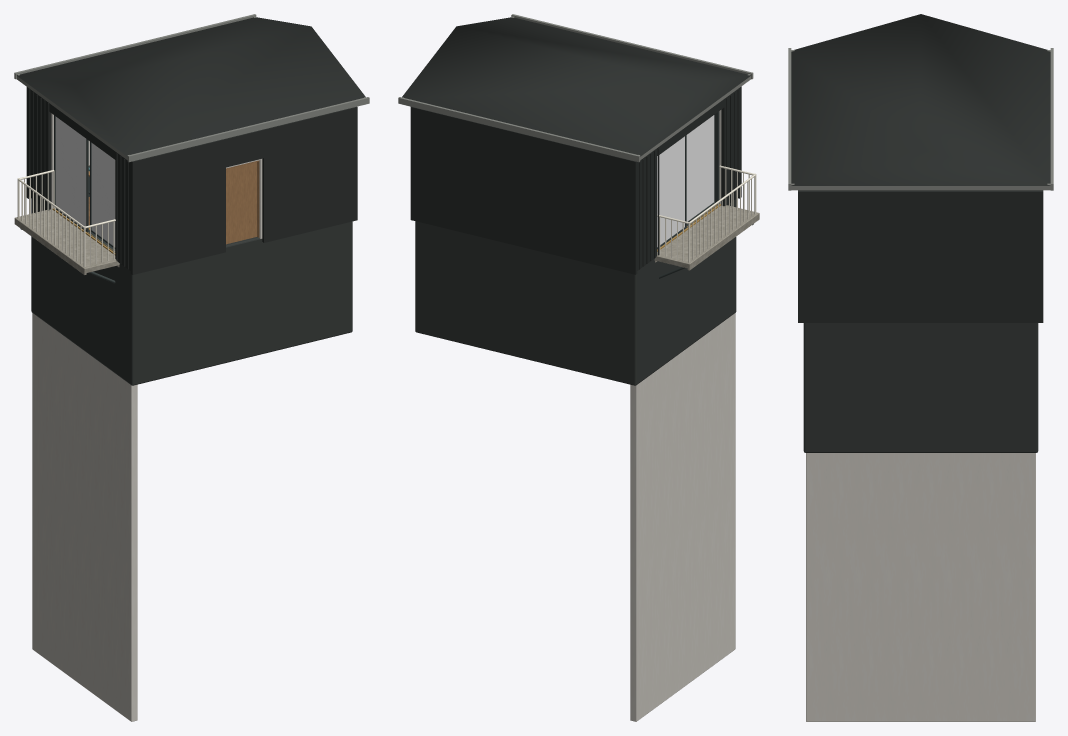
File: room.glb
The picture shows the model from 3 angles, left to right: view 1: azimuth 30°, elevation 25°; view 2: azimuth 150°, elevation 25°; view 3: azimuth 270°, elevation 25°; orthographic projection. The views are drawn at different scales.
Parts seen in each view (by area): view 1: Balcony building facade below floor, EXTERIOR_Terrain_House_Foundation, EXTERIOR_Terrain_House_Pitched_Roof, EXTERIOR_Terrain_House_Front_Cladding.001, EXTERIOR_Terrain_House_Front_Cladding, Balcony fixed clear glass, Entry oak door, Balcony slab, Balcony moving clear glass, EXTERIOR_Terrain_House_Window_Side_Cladding.001, EXTERIOR_Terrain_House_Eave_Fascia, EXTERIOR_Terrain_House_Window_Side_Cladding (+3 smaller); view 2: Balcony building facade below floor, EXTERIOR_Terrain_House_Foundation, EXTERIOR_Terrain_House_Pitched_Roof, EXTERIOR_Terrain_House_Back_Cladding, Balcony moving clear glass, Balcony slab, Balcony fixed clear glass, EXTERIOR_Terrain_House_Eave_Fascia.001, EXTERIOR_Terrain_House_Window_Side_Cladding.001, EXTERIOR_Terrain_House_Window_Side_Cladding, EXTERIOR_Terrain_House_Eave_Fascia, EXTERIOR_Terrain_House_Window_Lintel; view 3: Balcony building facade below floor, EXTERIOR_Terrain_House_Pitched_Roof, EXTERIOR_Terrain_House_Right_Cladding, EXTERIOR_Terrain_House_Foundation, EXTERIOR_Terrain_House_Roof_End_Fascia.001, EXTERIOR_Terrain_House_Eave_Fascia, EXTERIOR_Terrain_House_Eave_Fascia.001.
Part boxes in pixels (box(x1,y1,x2,y2)): Balcony building facade below floor: box(32, 313, 137, 721); EXTERIOR_Terrain_House_Foundation: box(31, 199, 352, 385); EXTERIOR_Terrain_House_Pitched_Roof: box(17, 17, 365, 156); EXTERIOR_Terrain_House_Front_Cladding.001: box(262, 106, 357, 242); EXTERIOR_Terrain_House_Front_Cladding: box(130, 139, 225, 274); Balcony fixed clear glass: box(55, 116, 86, 228); Entry oak door: box(226, 162, 257, 244); Balcony slab: box(15, 209, 119, 273); Balcony moving clear glass: box(91, 143, 115, 246); EXTERIOR_Terrain_House_Window_Side_Cladding.001: box(28, 88, 51, 209); EXTERIOR_Terrain_House_Eave_Fascia: box(127, 97, 369, 162); EXTERIOR_Terrain_House_Window_Side_Cladding: box(115, 152, 131, 271); Balcony building facade below floor: box(630, 313, 735, 721); EXTERIOR_Terrain_House_Foundation: box(415, 199, 736, 385); EXTERIOR_Terrain_House_Pitched_Roof: box(402, 17, 750, 156); EXTERIOR_Terrain_House_Back_Cladding: box(411, 106, 637, 274); Balcony moving clear glass: box(686, 115, 714, 221); Balcony slab: box(654, 205, 758, 268); Balcony fixed clear glass: box(657, 136, 684, 246); EXTERIOR_Terrain_House_Eave_Fascia.001: box(398, 97, 640, 162); EXTERIOR_Terrain_House_Window_Side_Cladding.001: box(637, 148, 657, 270); EXTERIOR_Terrain_House_Window_Side_Cladding: box(721, 87, 740, 206); EXTERIOR_Terrain_House_Eave_Fascia: box(511, 14, 753, 79); EXTERIOR_Terrain_House_Window_Lintel: box(657, 99, 724, 155); Balcony building facade below floor: box(806, 453, 1035, 721); EXTERIOR_Terrain_House_Pitched_Roof: box(791, 14, 1050, 185); EXTERIOR_Terrain_House_Right_Cladding: box(798, 190, 1043, 322); EXTERIOR_Terrain_House_Foundation: box(803, 323, 1038, 452); EXTERIOR_Terrain_House_Roof_End_Fascia.001: box(791, 183, 1050, 190); EXTERIOR_Terrain_House_Eave_Fascia: box(788, 48, 791, 190); EXTERIOR_Terrain_House_Eave_Fascia.001: box(1050, 48, 1053, 190).
Size of what is drawn, in the model's own units: 7.68 by 16.65 by 5.73.
172 materials, 102 textured.
